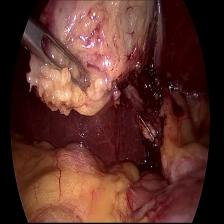Grasper: (21, 19, 89, 102)
